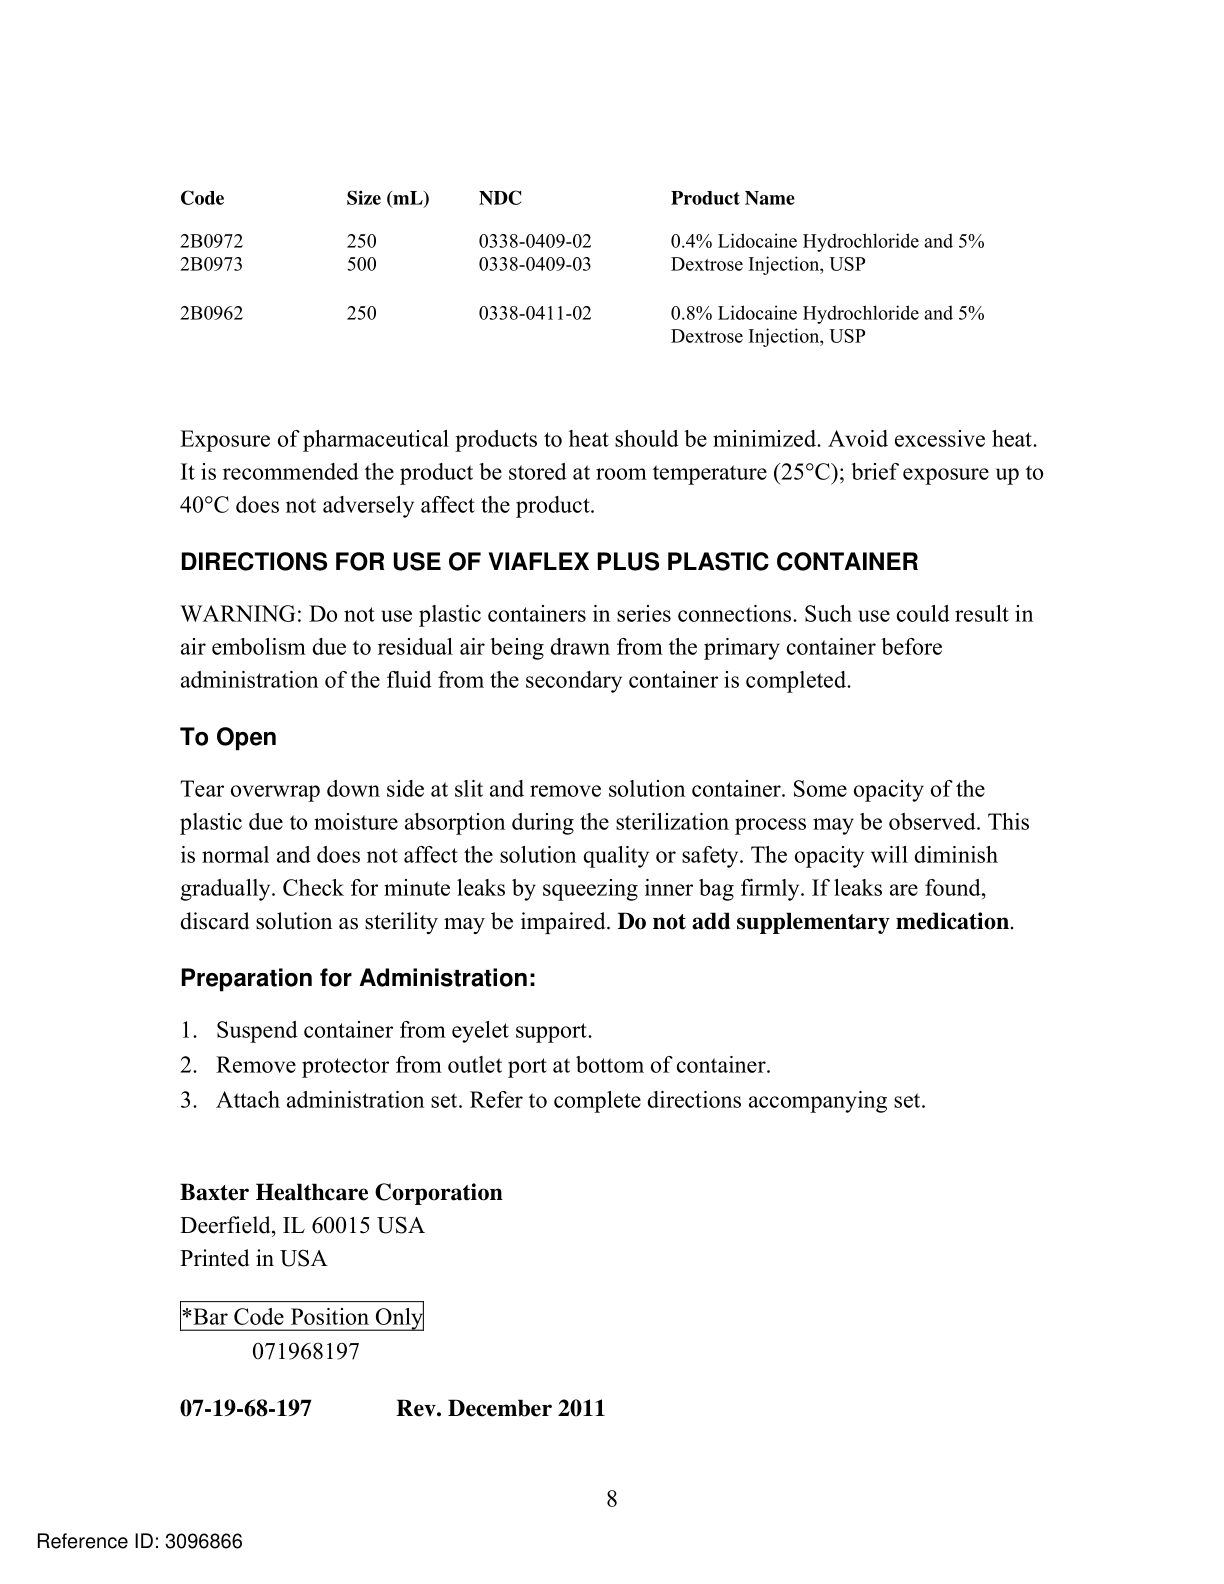nolines: (177, 185, 987, 347)
